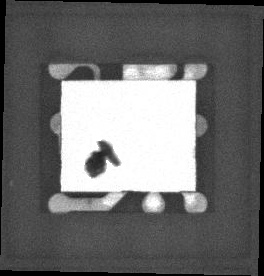DIE_INK: (80, 145, 116, 187)
